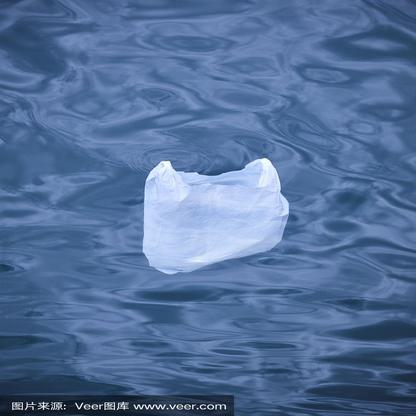plastic bag: (143, 154, 291, 272)
